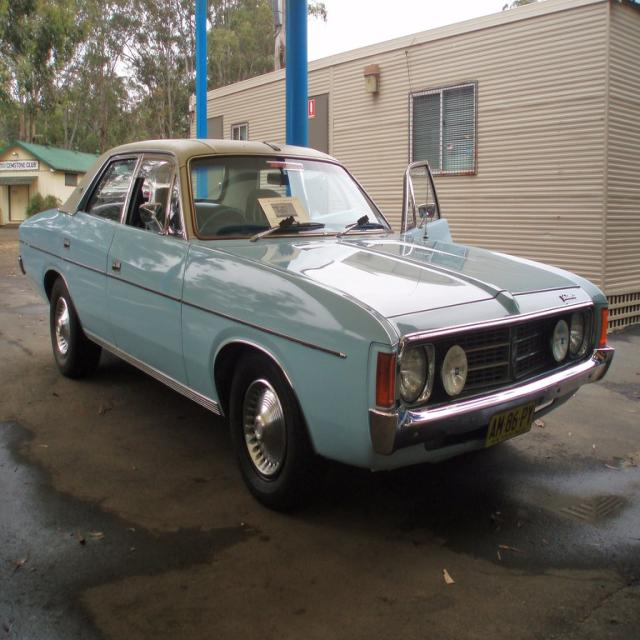car: (17, 131, 615, 506)
